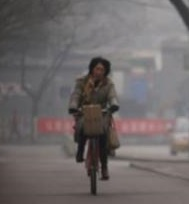person: (68, 56, 122, 196)
